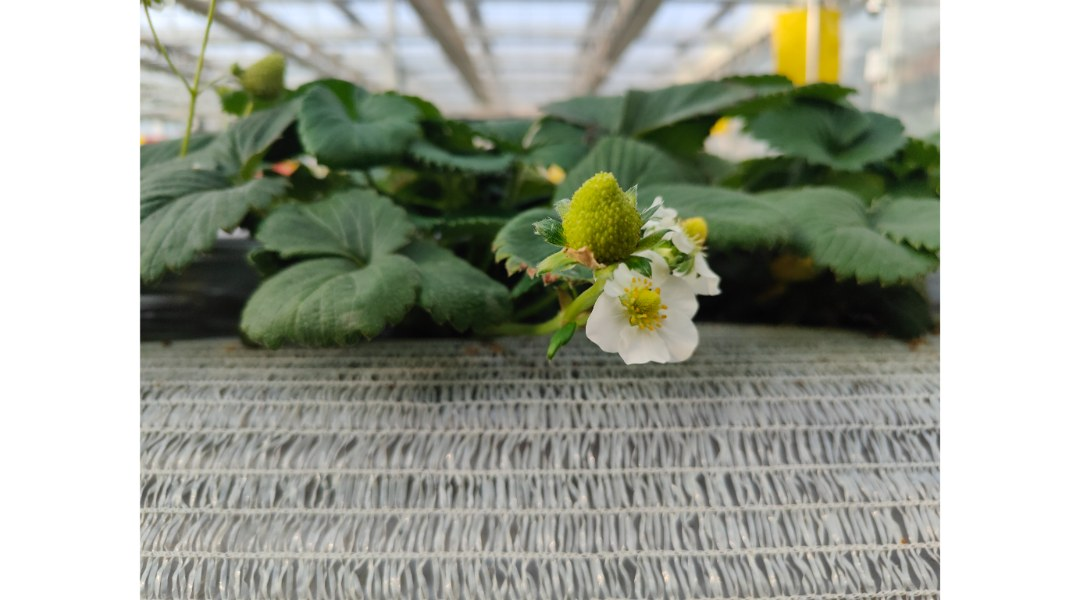berry: (556, 169, 648, 271)
flower: (580, 256, 704, 365), (646, 197, 738, 299)
